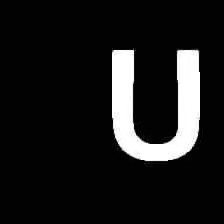LTR_U: (103, 35, 214, 169)
